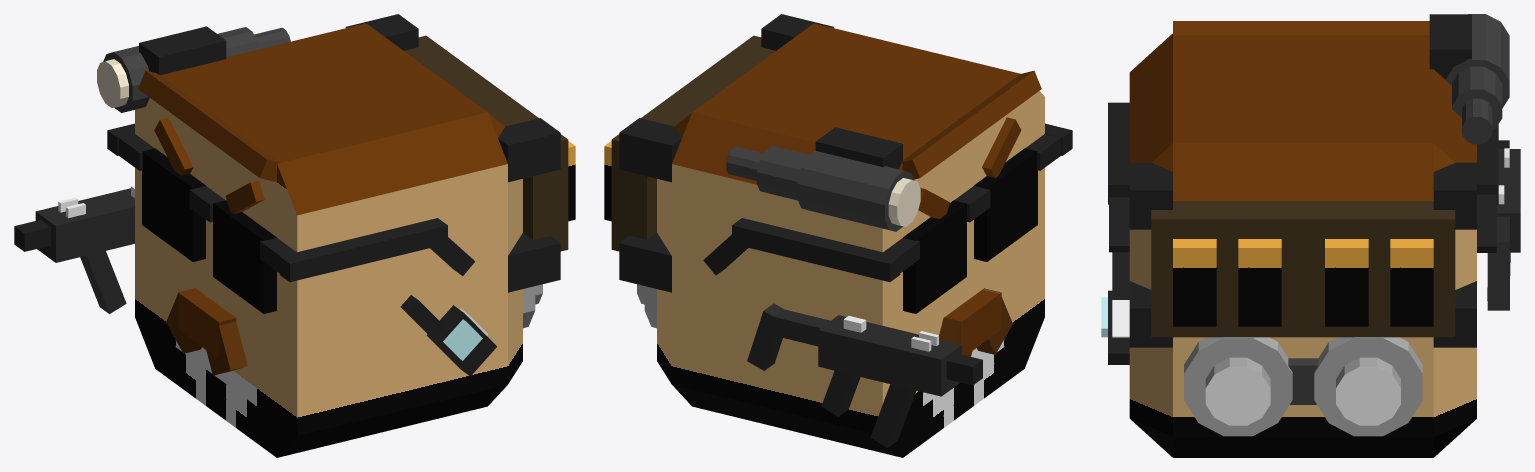
File: playersmg.gltf
3 views of the same model, side by side, from view 1: azimuth 30°, elevation 25°; view 2: azimuth 150°, elevation 25°; view 3: azimuth 270°, elevation 25° (orthographic). The views are drawn at different scales.
Visible parts, largest first — view 1: beveled_cuboid, cube; view 2: beveled_cuboid, cube; view 3: beveled_cuboid, cube.
Boxes of the visible parts, x1=… form: beveled_cuboid: x1=97, y1=14, x2=575, y2=457; cube: x1=14, y1=185, x2=134, y2=313; beveled_cuboid: x1=604, y1=14, x2=1072, y2=457; cube: x1=747, y1=303, x2=982, y2=447; beveled_cuboid: x1=1101, y1=14, x2=1509, y2=457; cube: x1=1487, y1=140, x2=1520, y2=310.
Size of the model in its own units: 1.44 by 1.06 by 1.21.
Materials: 5 (5 with a texture image).
